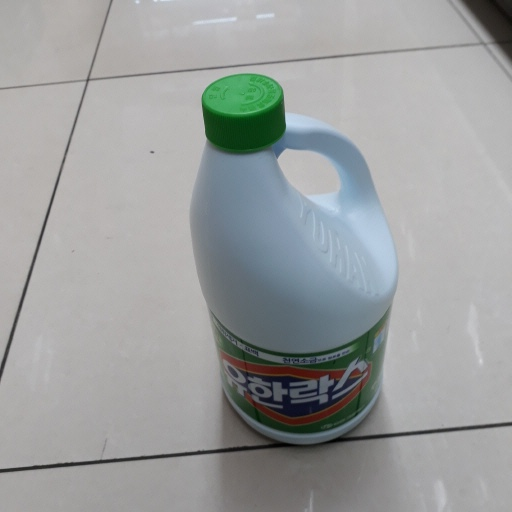Plastic_1: (190, 70, 394, 447)
